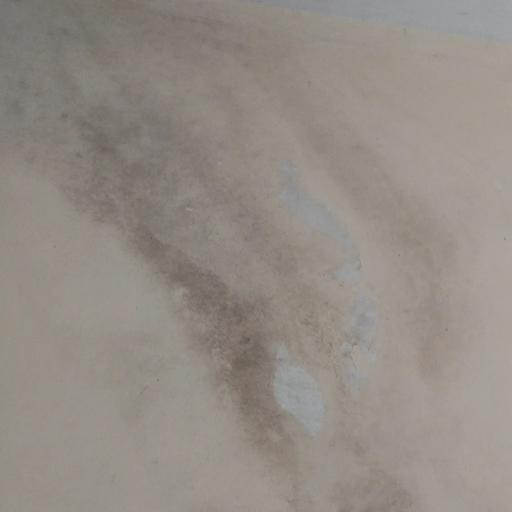stain: (16, 1, 464, 461)
